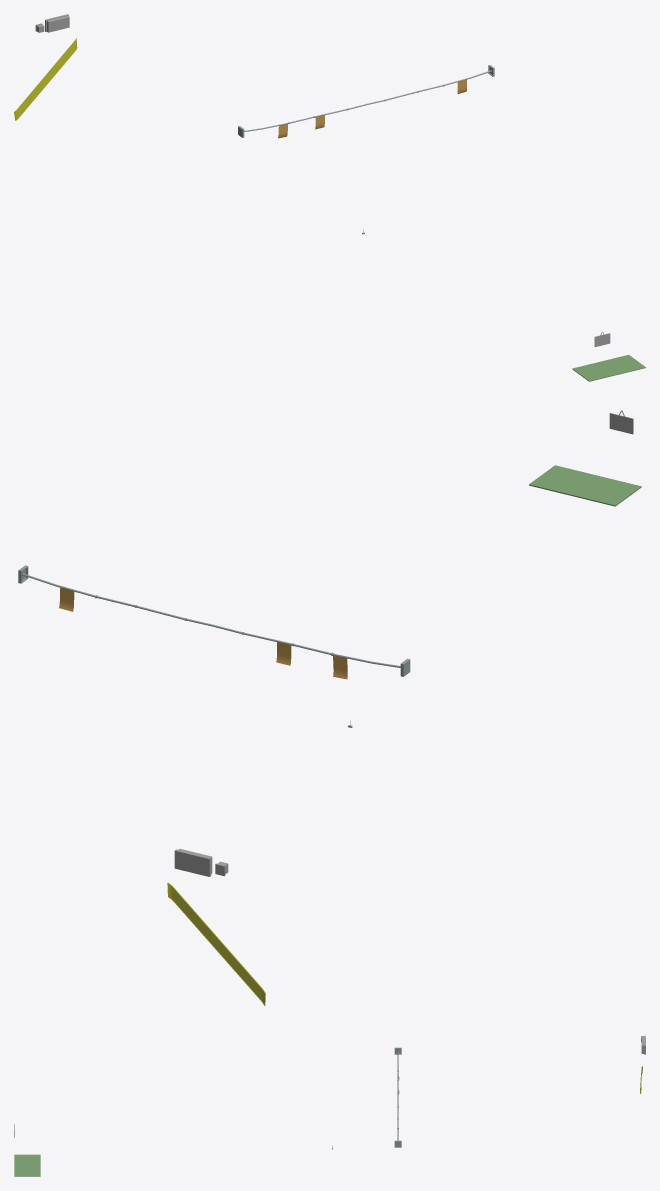
Rendered from Extra_Building.fbx.
The picture shows the model from 3 angles, top to bottom: view 1: azimuth 30°, elevation 25°; view 2: azimuth 150°, elevation 25°; view 3: azimuth 270°, elevation 25°; orthographic projection. The views are drawn at different scales.
Visible parts, largest first — view 1: Welcome, Cross_Line, Line; view 2: Welcome, Cross_Line, Line, Exit; view 3: Welcome, Line.
Part boxes in pixels (x1,y1,x2,y2): Welcome: (572, 354, 645, 381); Cross_Line: (14, 38, 77, 120); Line: (238, 65, 494, 137); Welcome: (529, 465, 641, 506); Cross_Line: (167, 882, 265, 1005); Line: (18, 565, 410, 676); Exit: (174, 849, 212, 876); Welcome: (14, 1154, 40, 1176); Line: (394, 1047, 401, 1147).
Bounding box in the file's own units: 1098 × 309 × 2468.
